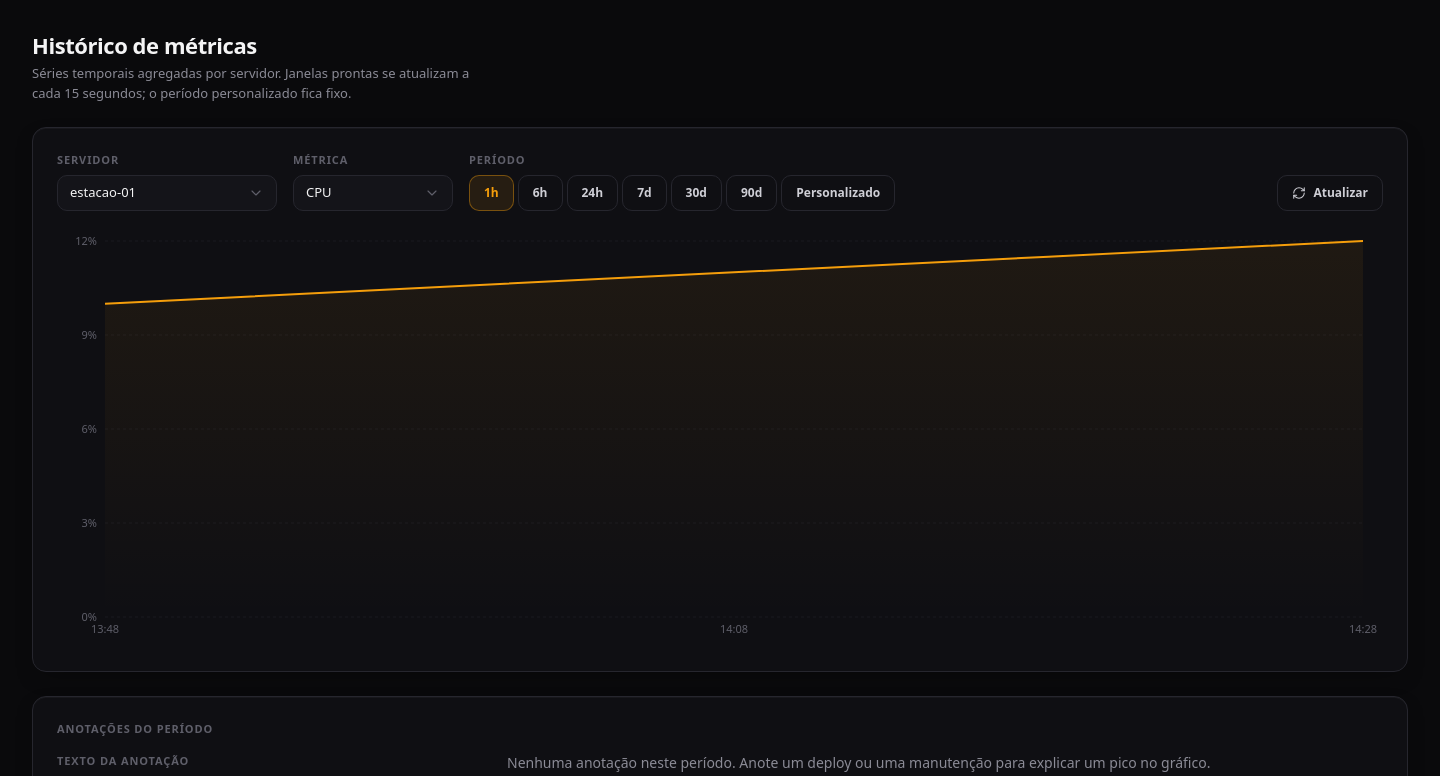
MetricsHistoryView — janelas › mostra a mensagem do painel quando o período é recusado
The image size is (1440, 776).
Step 1. Click the button "Personalizado" → x=838, y=193, box [781,175,895,211]
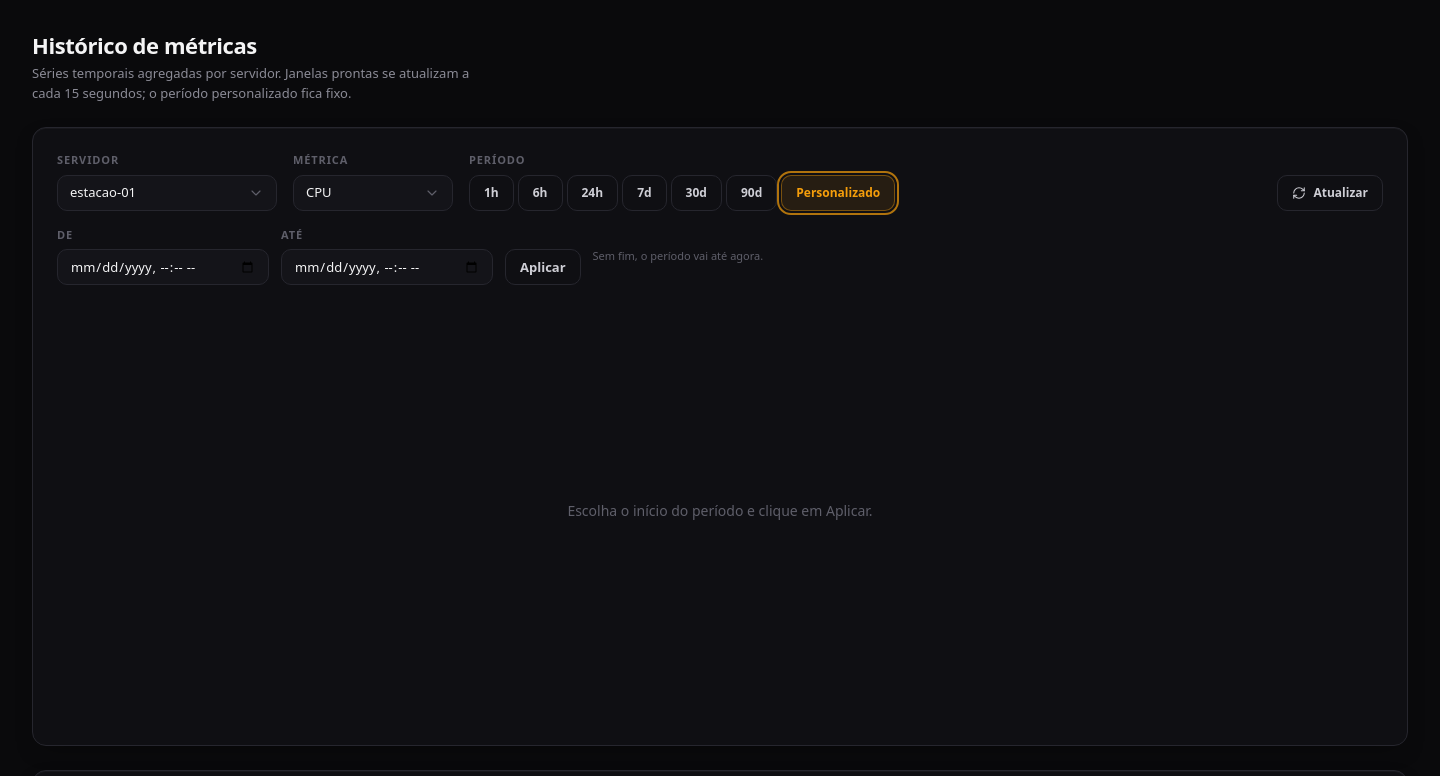
Step 2. Type "2020-01-01T00:00" into the field labelled "De" → x=163, y=267, box [57,249,269,285]
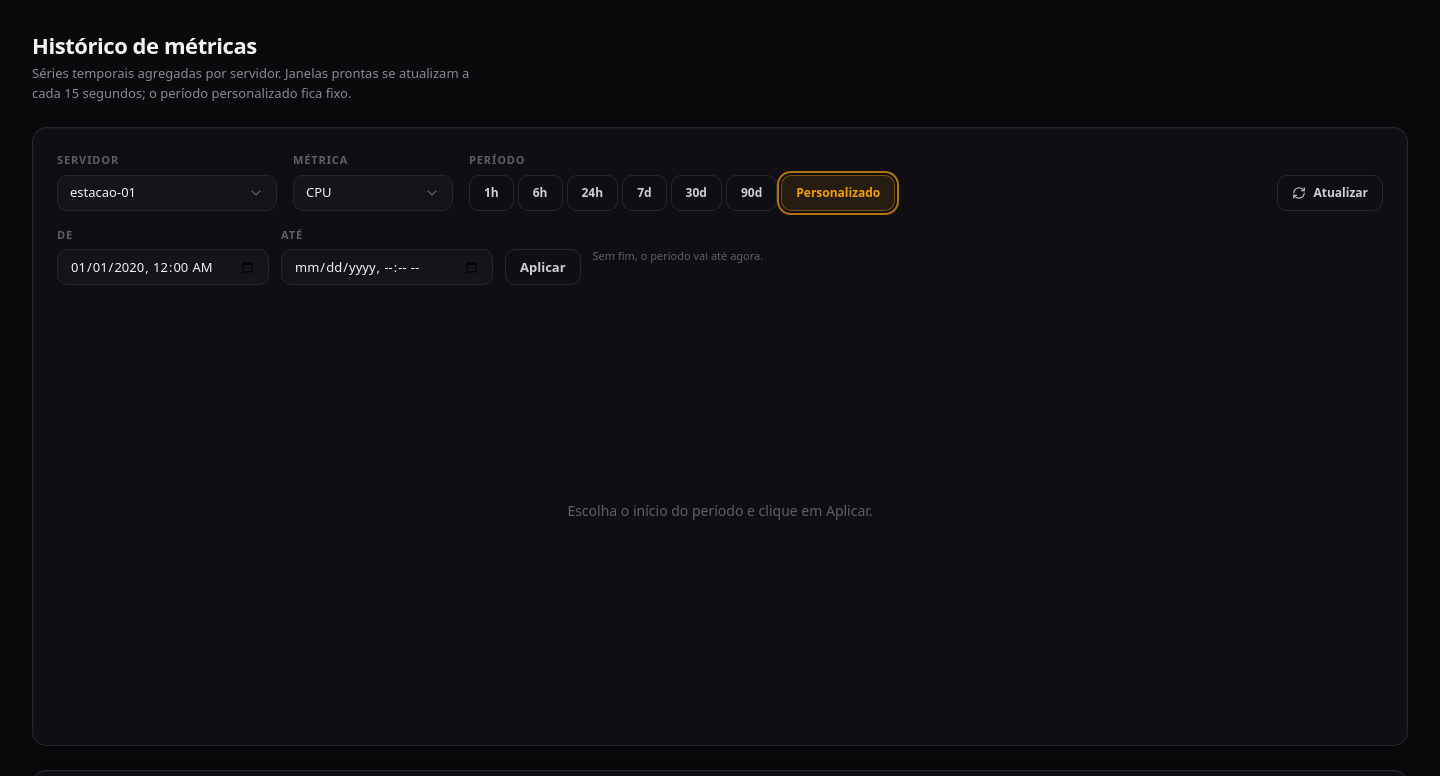
Step 3. Click the button "Aplicar" → x=543, y=267, box [505,249,581,285]
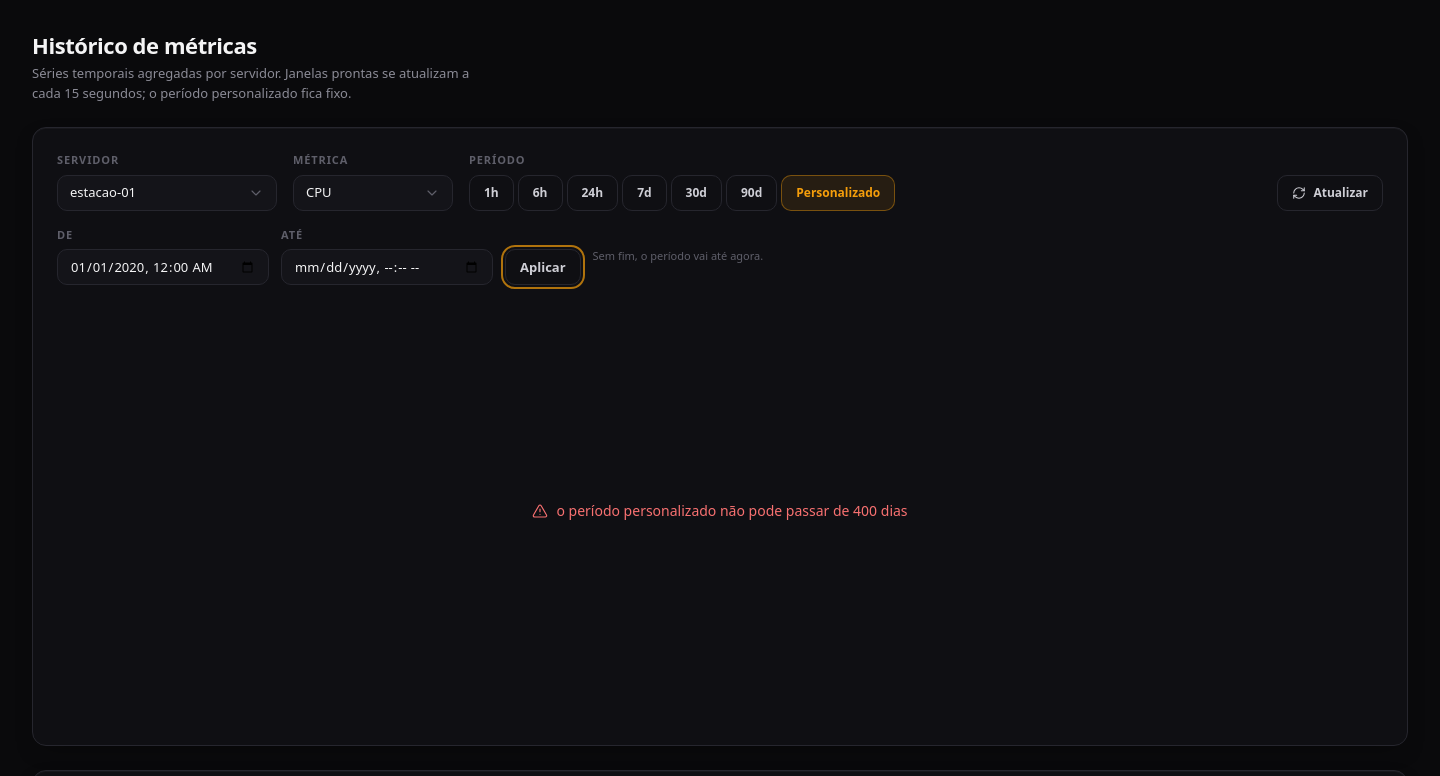
Check: the text "o período personalizado não pode passar de 400 dias" is shown, box [556,501,908,521]
